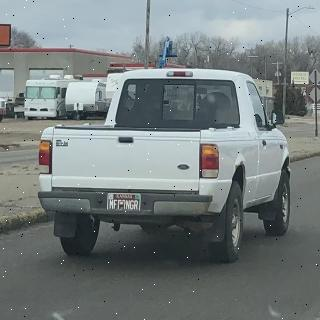license: (107, 194, 143, 214)
